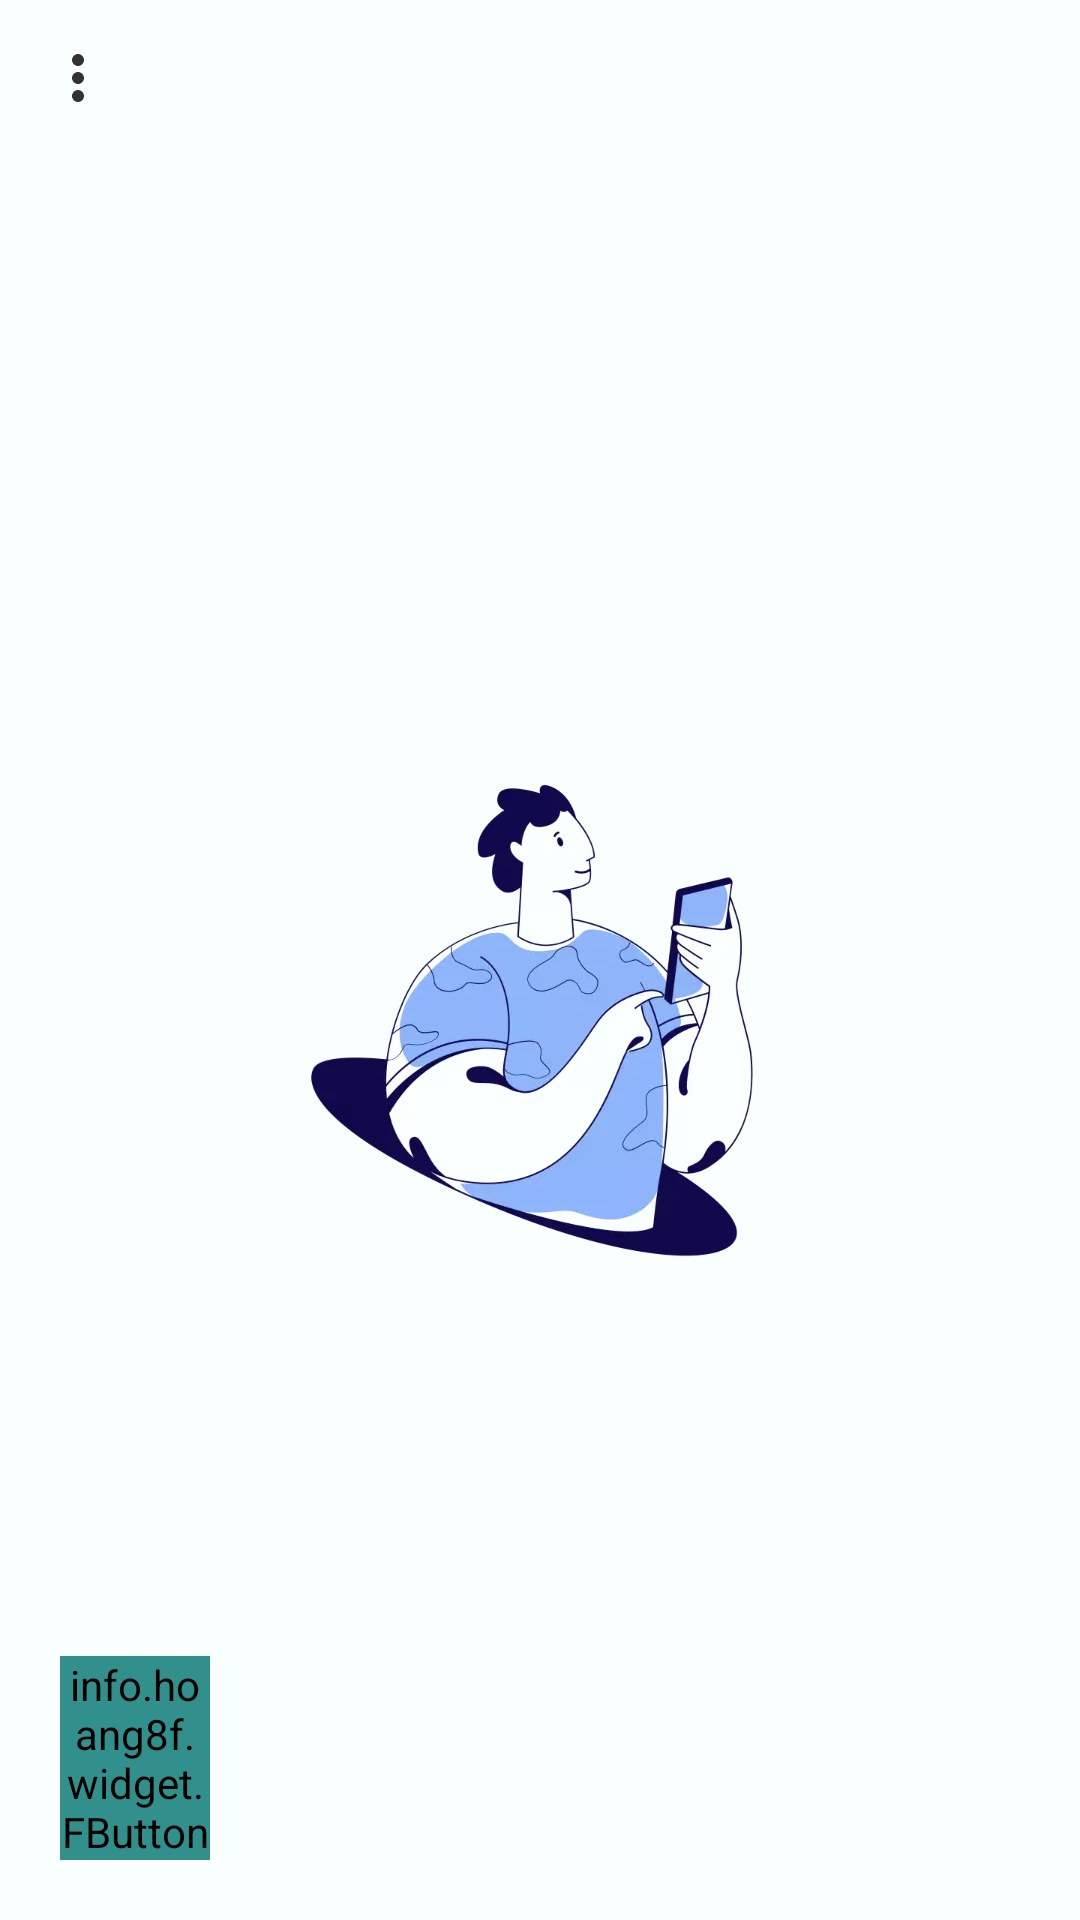

Where icons sit on this 1080x1920 app screen, as bbox=[x1, y1, x2, y2]:
more: bbox=[72, 54, 84, 102]
